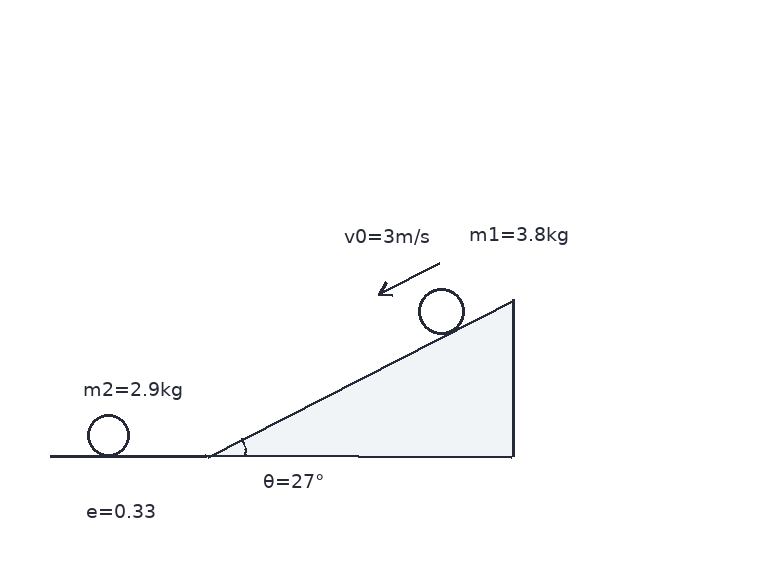ball: (416, 286, 466, 336), (85, 412, 131, 458)
ramp: (204, 298, 515, 458)
